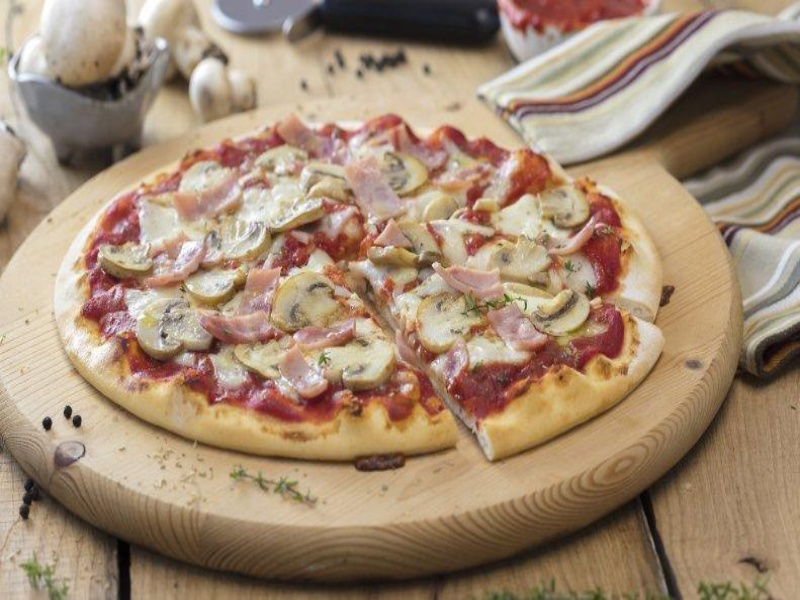champignon: (131, 292, 228, 370), (406, 288, 490, 357), (265, 268, 347, 338), (317, 330, 398, 393), (525, 287, 604, 337), (533, 183, 600, 233), (91, 237, 165, 278)
